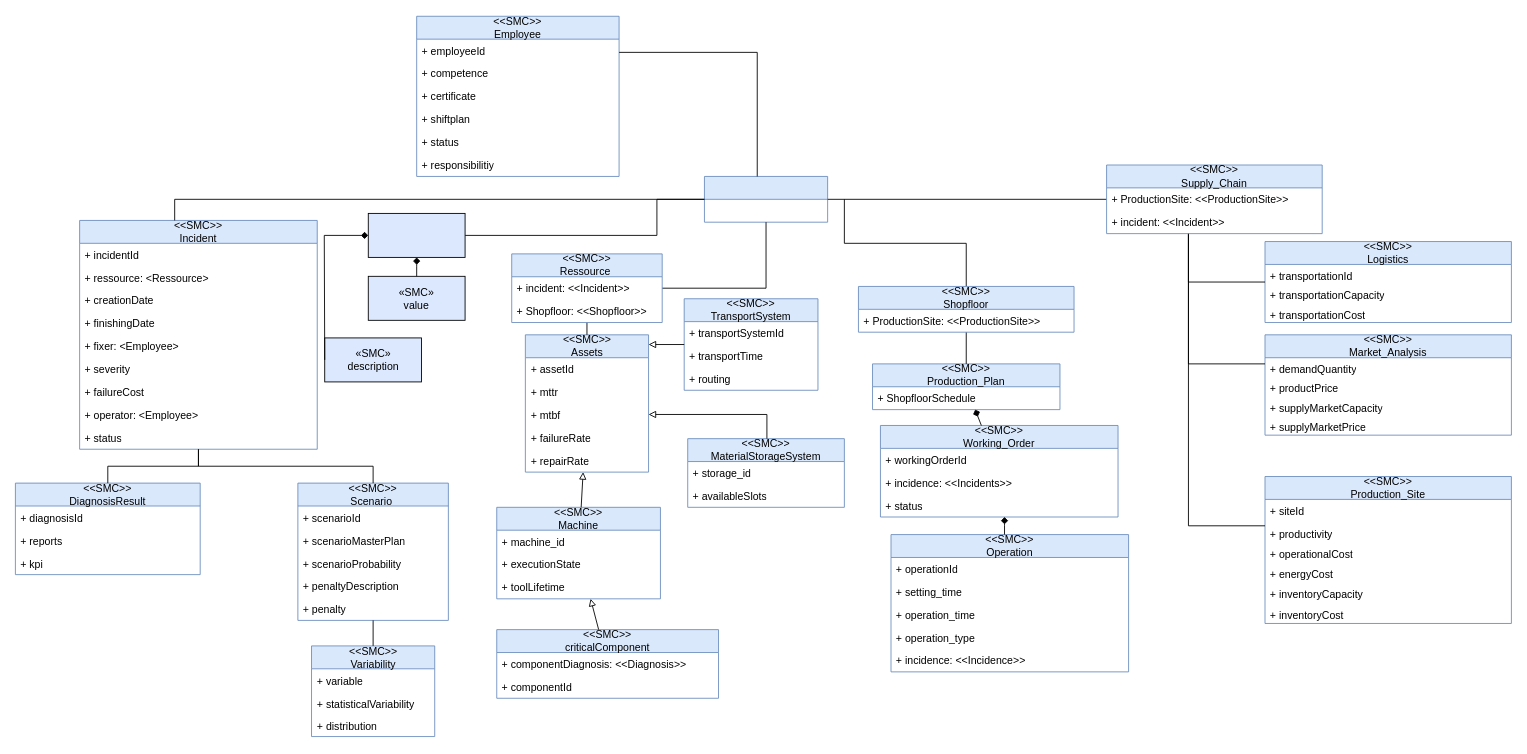
The diagram is 1527 pixels wide and 754 high, and some of its shapes have lost their labels. Each missing label, with the centre of its shape:
<<Submodel>> Resilience: (766,199)
«SMC» ResilienceKPI: (416,235)
